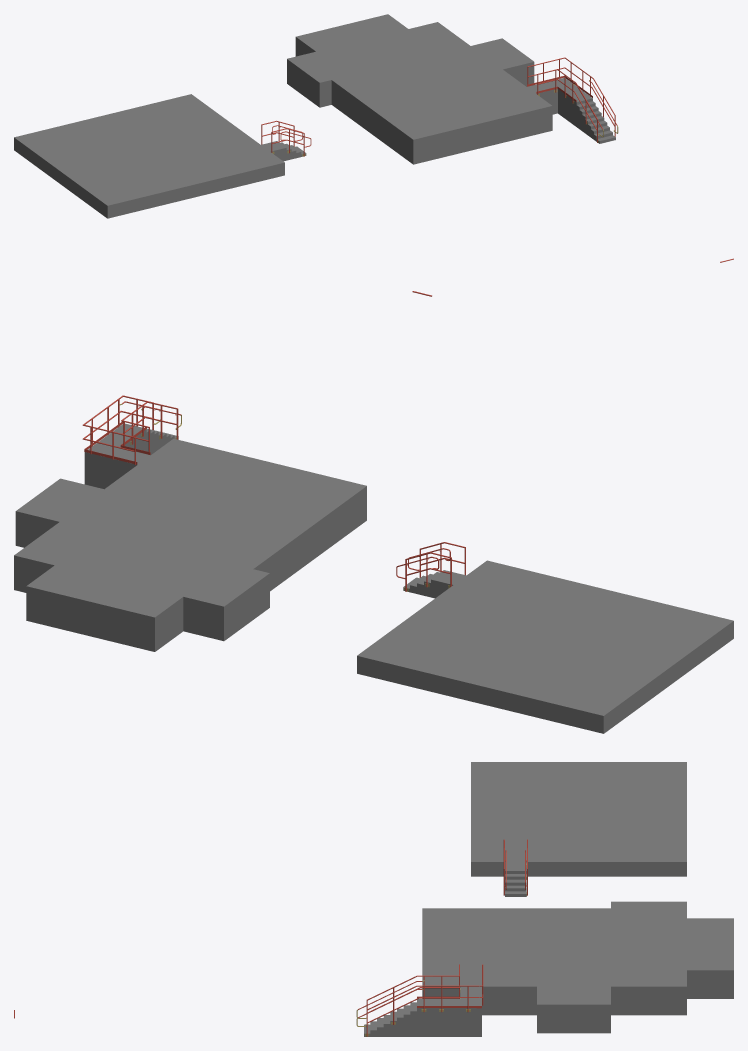
3 renders of one model, top to bottom at view 1: azimuth 30°, elevation 25°; view 2: azimuth 150°, elevation 25°; view 3: azimuth 270°, elevation 25°, orthographic. The views are drawn at different scales.
Visible parts, largest first — view 1: Mesh 135, Mesh 355, Mesh 302, Mesh 448; view 2: Mesh 135, Mesh 355, Mesh 302, Mesh 448; view 3: Mesh 135, Mesh 355, Mesh 302, Mesh 448.
Part boxes in pixels (left/top/right/bottom): Mesh 135: left=287, top=14, right=552, bottom=164; Mesh 355: left=14, top=94, right=284, bottom=218; Mesh 302: left=527, top=78, right=615, bottom=143; Mesh 448: left=261, top=141, right=306, bottom=161; Mesh 135: left=14, top=438, right=366, bottom=651; Mesh 355: left=357, top=560, right=733, bottom=733; Mesh 302: left=84, top=423, right=178, bottom=489; Mesh 448: left=403, top=570, right=466, bottom=598; Mesh 135: left=422, top=901, right=733, bottom=1033; Mesh 355: left=471, top=762, right=686, bottom=876; Mesh 302: left=364, top=986, right=481, bottom=1036; Mesh 448: left=505, top=862, right=526, bottom=896.
Bounding box in the file's own units: 26 × 2.43 × 30.36.
